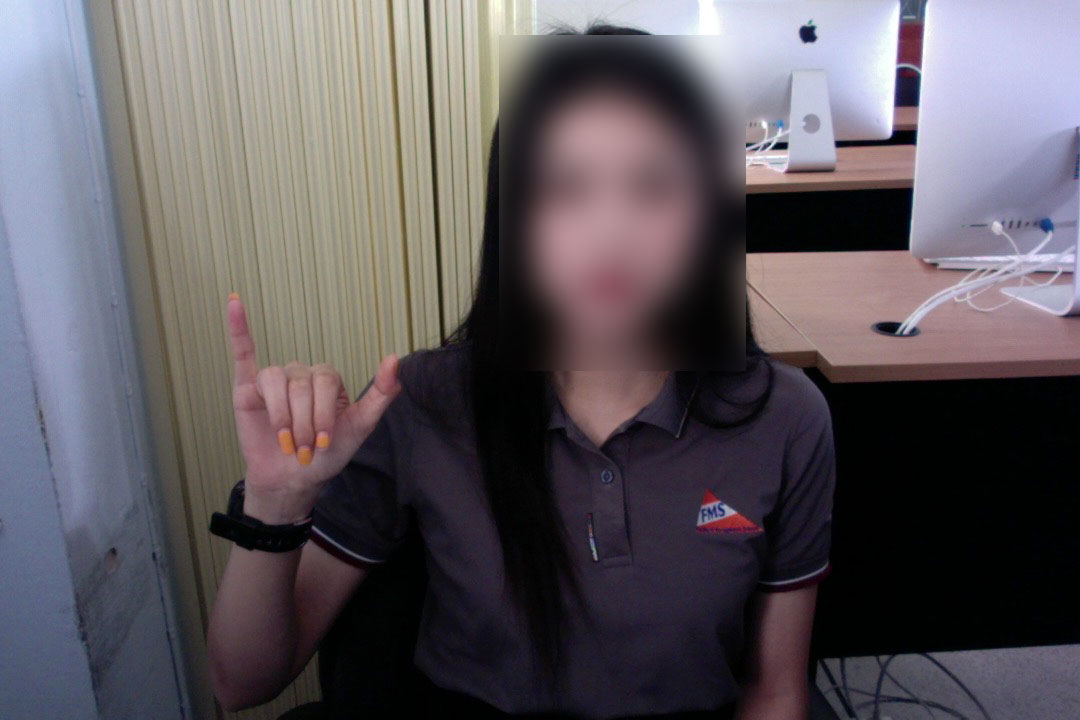yor: (219, 283, 409, 518)
